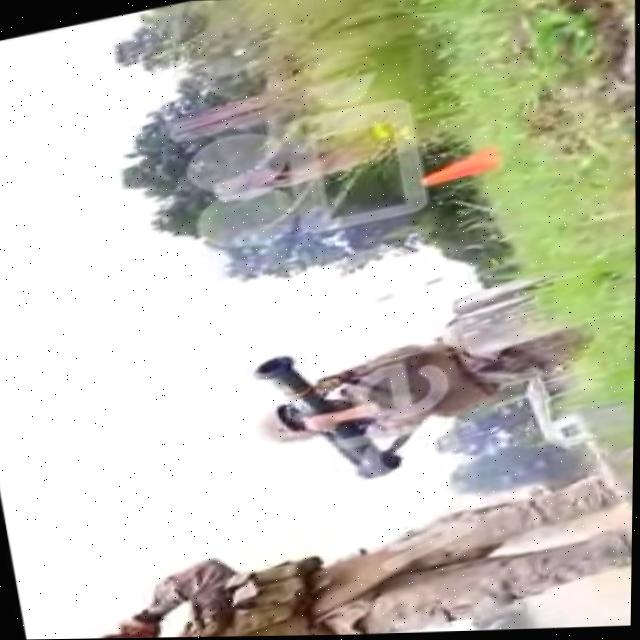rocket: (252, 336, 415, 501)
